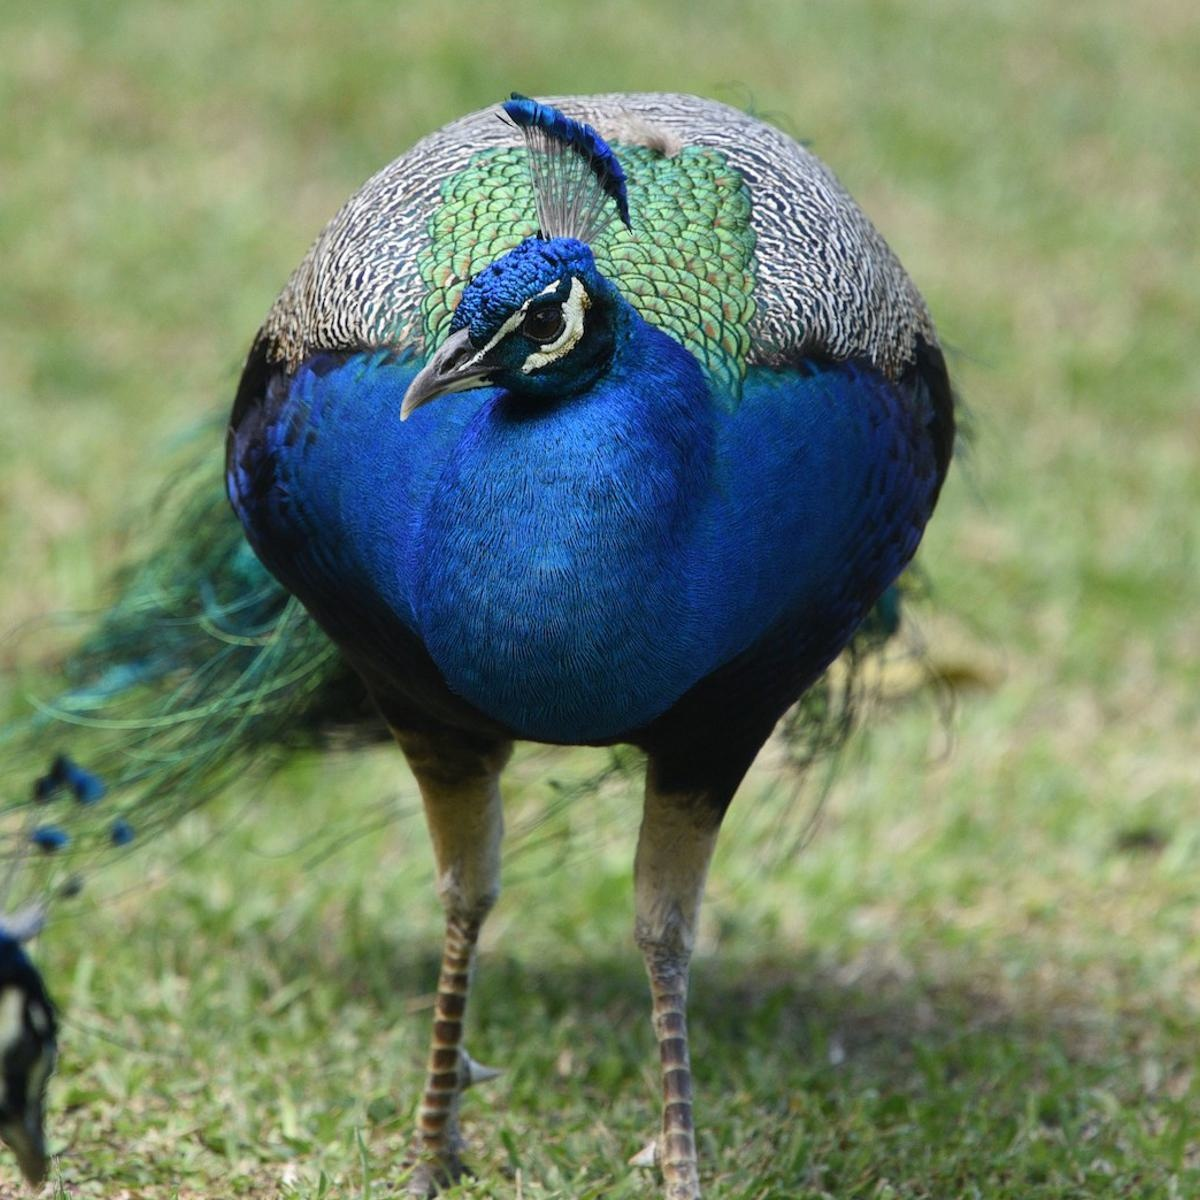peacock: (238, 93, 936, 1063)
